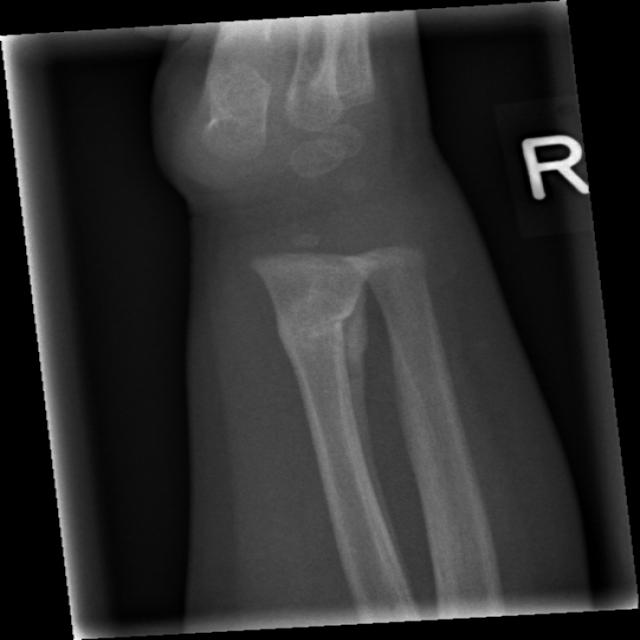radius fracture: (252, 275, 381, 398)
